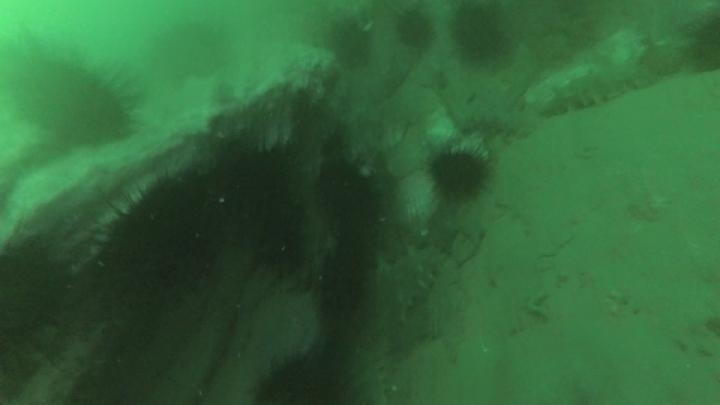echinus: (102, 183, 223, 301), (17, 55, 138, 151), (212, 141, 299, 222), (251, 348, 354, 404), (153, 17, 232, 81), (314, 157, 382, 226), (315, 246, 370, 323), (249, 209, 308, 279), (448, 3, 511, 65), (426, 145, 493, 203), (326, 18, 376, 70), (685, 9, 720, 76), (393, 8, 436, 52)
holothurian: (361, 249, 456, 401), (533, 63, 652, 119)
